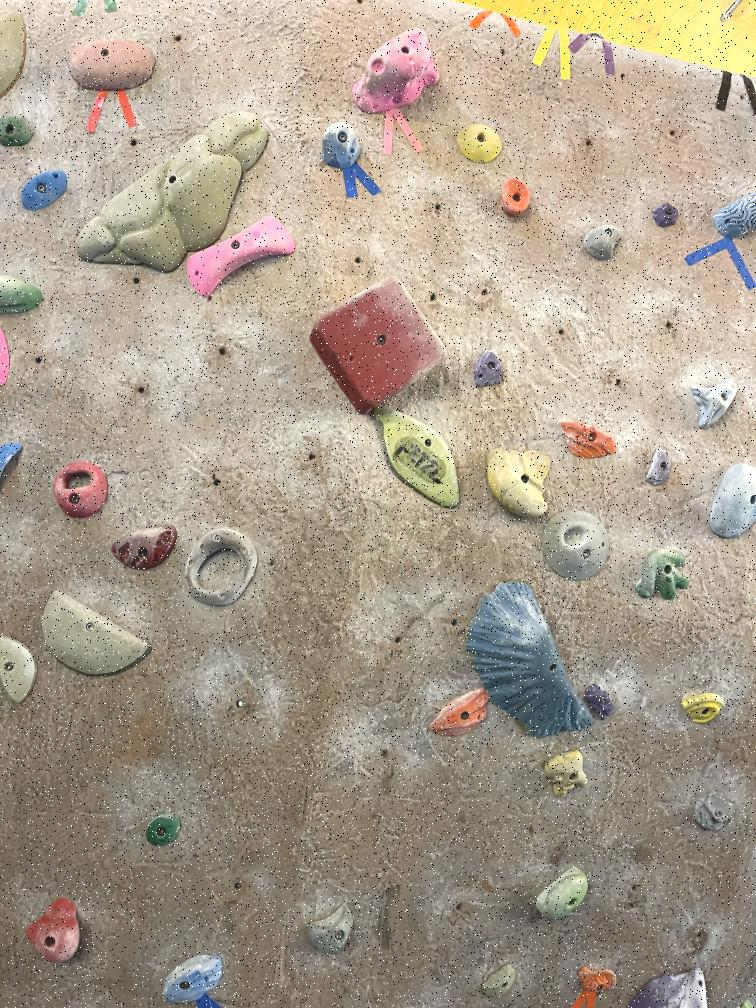Crimp: (466, 576, 586, 735), (40, 586, 154, 679), (685, 366, 744, 436), (108, 526, 183, 572), (552, 415, 620, 462), (426, 689, 491, 737), (161, 956, 222, 1004), (305, 903, 358, 958), (17, 166, 68, 212), (689, 792, 738, 832), (643, 441, 677, 487), (0, 110, 40, 148), (479, 963, 522, 998), (145, 811, 183, 848)
Edges: (74, 109, 267, 276)
Jug: (308, 273, 448, 418), (373, 411, 461, 515), (348, 26, 442, 121), (483, 442, 557, 523), (64, 38, 160, 94), (26, 893, 86, 972), (530, 860, 595, 928), (316, 119, 370, 175), (452, 123, 506, 171), (539, 748, 591, 797), (680, 691, 728, 726), (574, 964, 618, 999)
Pinch: (187, 216, 300, 298), (630, 542, 697, 601), (580, 679, 618, 722), (471, 348, 508, 390), (498, 177, 535, 217), (650, 200, 681, 227)
Pocket: (180, 527, 264, 607), (538, 508, 612, 580), (50, 461, 110, 520)
Sloper: (705, 456, 756, 550), (577, 214, 631, 272)
